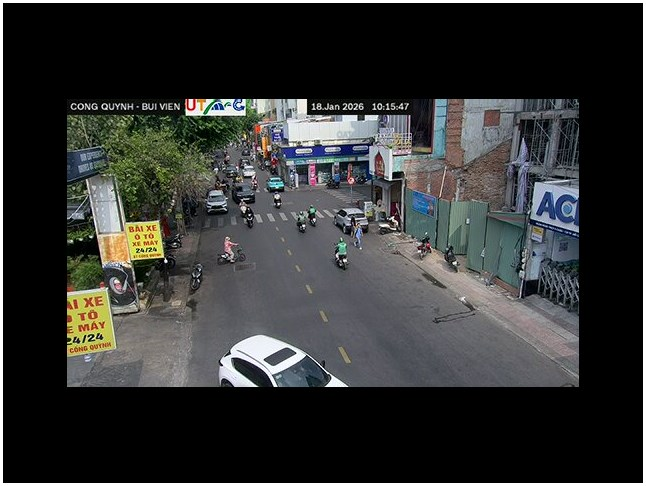car: (218, 333, 338, 386), (334, 208, 366, 233), (206, 190, 228, 214), (266, 176, 284, 192)
motorbike: (189, 261, 204, 292), (334, 248, 349, 270), (243, 206, 255, 228), (296, 211, 308, 233)
